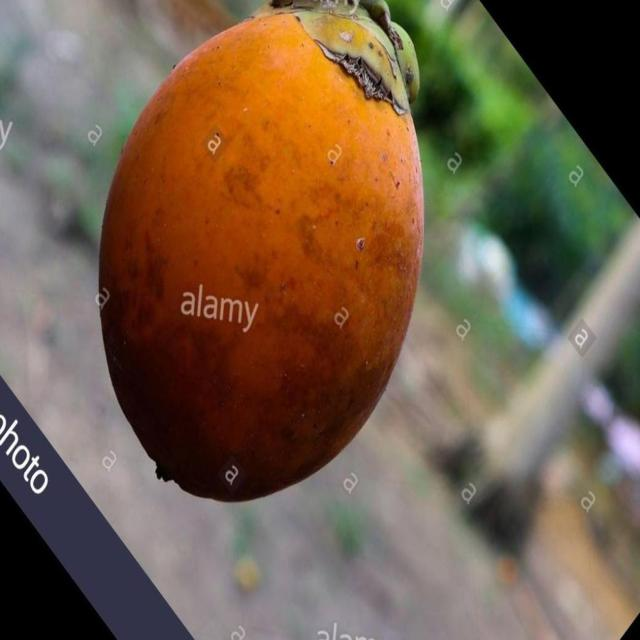good: (96, 0, 424, 505)
